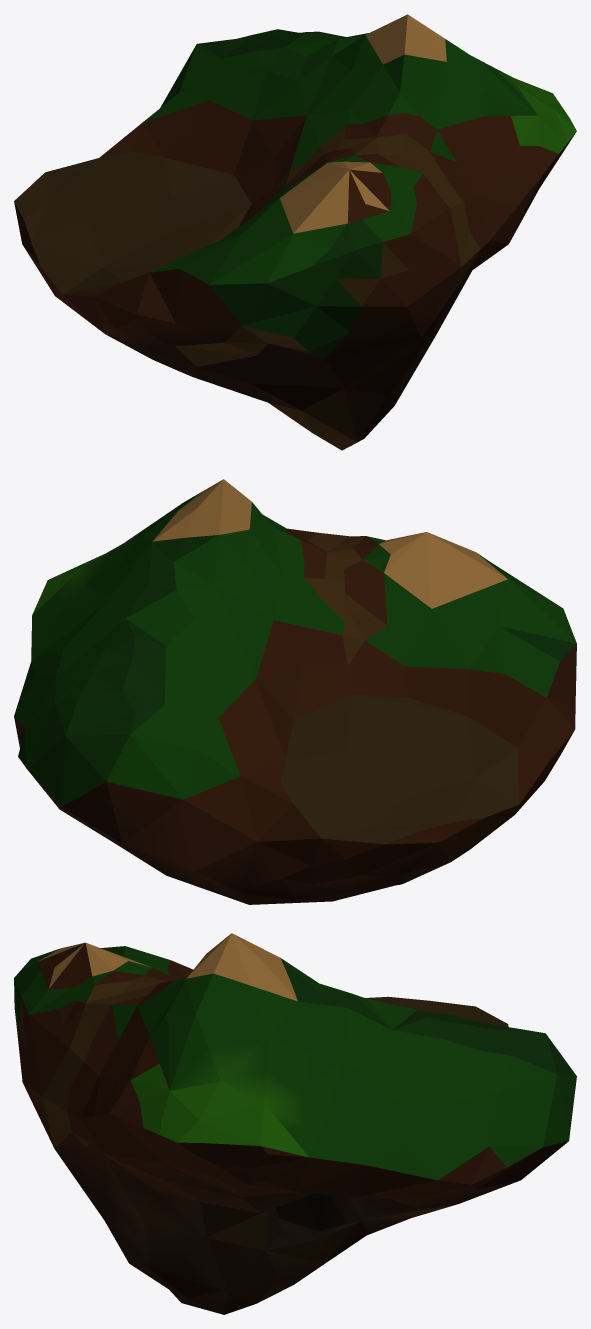
Rendered from MainMount.fbx.
3 renders of one model, top to bottom at view 1: azimuth 30°, elevation 25°; view 2: azimuth 150°, elevation 25°; view 3: azimuth 270°, elevation 25°, orthographic. The views are drawn at different scales.
Parts seen in each view (by area): view 1: Icosphere; view 2: Icosphere; view 3: Icosphere.
Part boxes in pixels (left/top/right/bottom): Icosphere: left=14, top=14, right=576, bottom=450; Icosphere: left=14, top=479, right=576, bottom=904; Icosphere: left=14, top=933, right=576, bottom=1314.
Size of the model in its own units: 1658 by 1315 by 1636.
